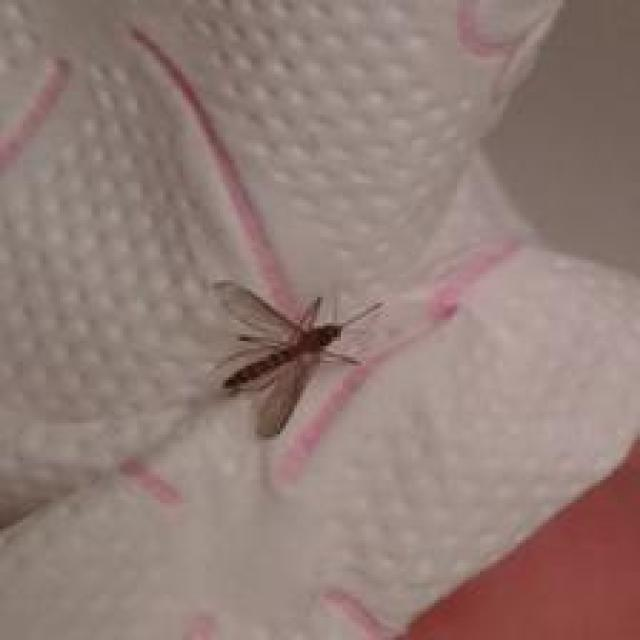Culex: (207, 278, 384, 438)
